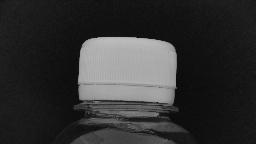Good Cap: (72, 34, 182, 116)
